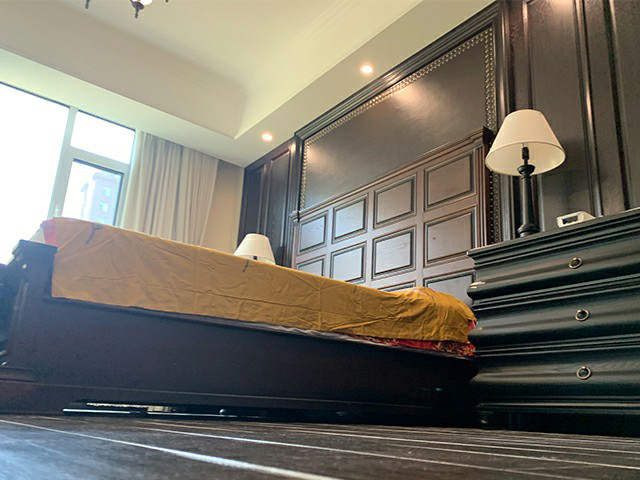bed: (1, 216, 478, 424)
cabinet: (464, 206, 640, 432)
